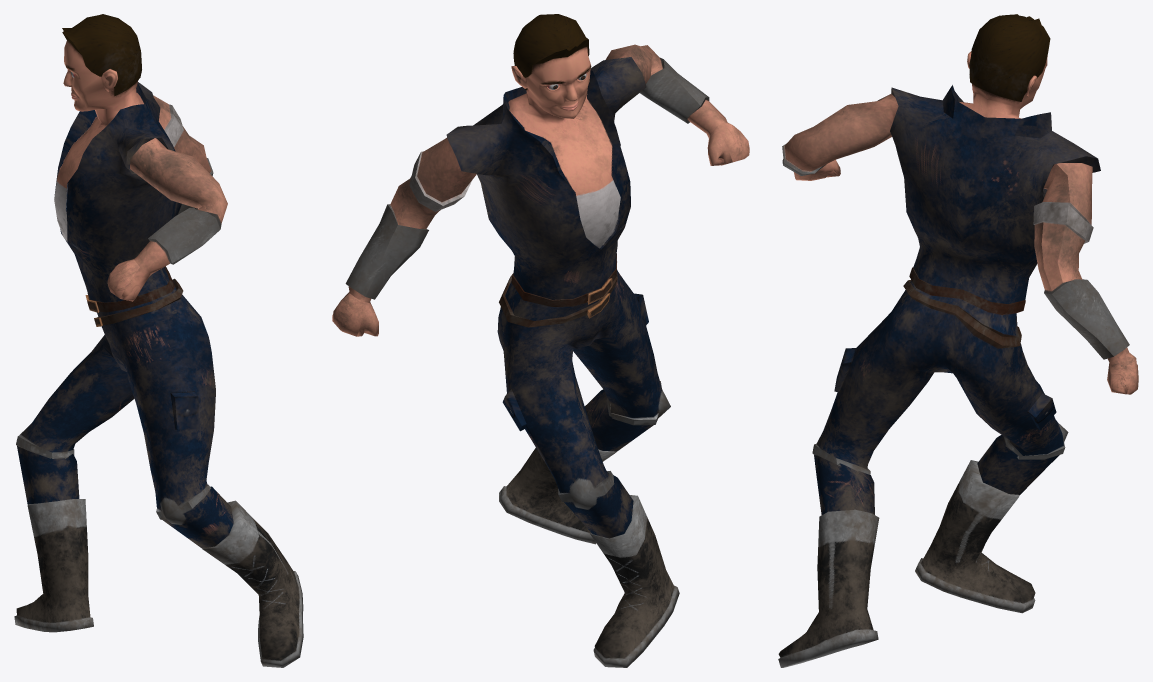
The model's file is Anim_ataque_f2_jugador.0023.obj.
3 views of the same model, side by side, from view 1: azimuth 30°, elevation 25°; view 2: azimuth 150°, elevation 25°; view 3: azimuth 270°, elevation 25° (orthographic). The views are drawn at different scales.
Visible parts, largest first — view 1: polySurface1; view 2: polySurface1; view 3: polySurface1.
Part boxes in pixels (<box>): polySurface1: <box>14,14,303,667</box>; polySurface1: <box>332,14,749,667</box>; polySurface1: <box>778,14,1138,667</box>.
Bounding box in the file's own units: 3.94 × 9.16 × 4.82.
